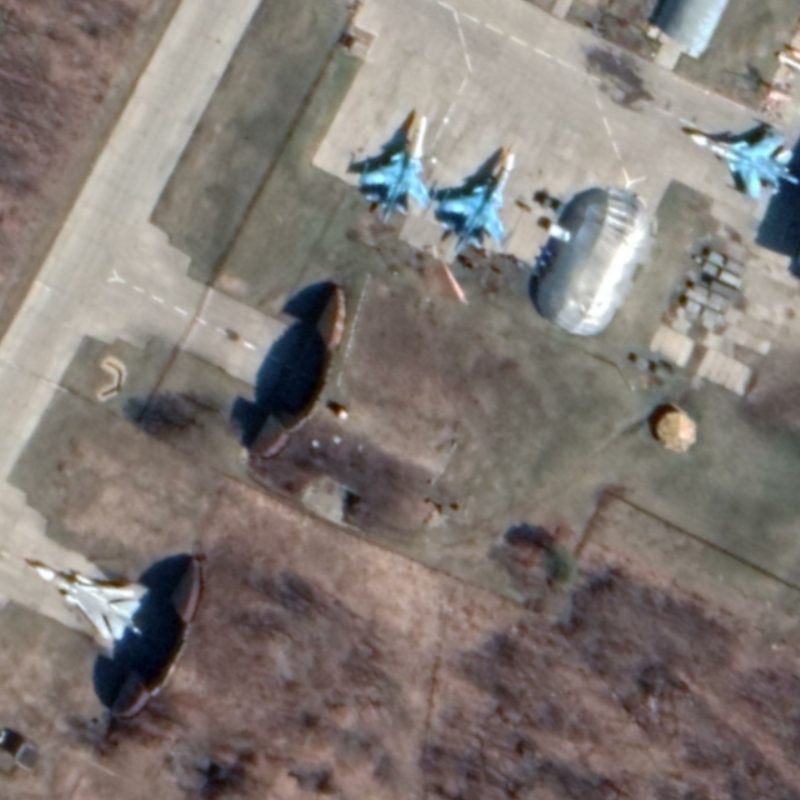A19: (356, 114, 440, 226), (435, 150, 518, 255), (688, 124, 799, 202)
A20: (34, 565, 144, 642)
